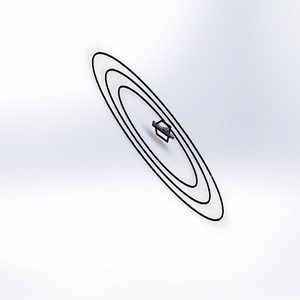circle: (77, 44, 233, 228)
submarine: (149, 114, 176, 154)
